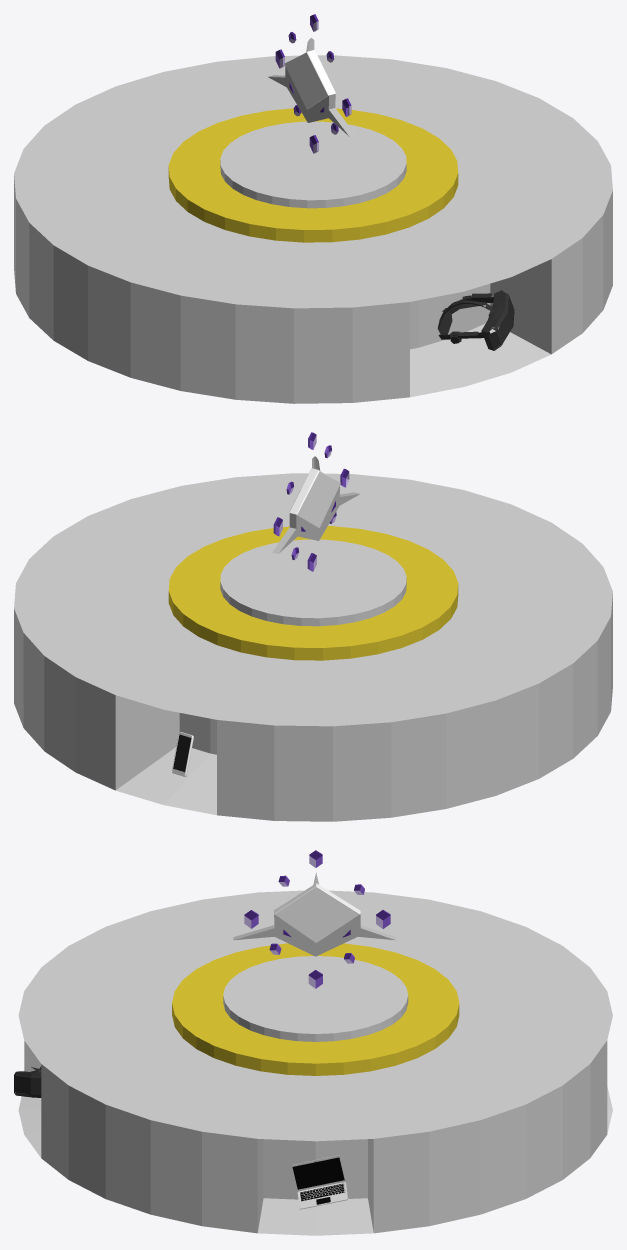
The picture shows the model from 3 angles, top to bottom: view 1: azimuth 30°, elevation 25°; view 2: azimuth 150°, elevation 25°; view 3: azimuth 270°, elevation 25°; orthographic projection.
Visible parts, largest first — view 1: Cylinder002, Cylinder002_1, BezierCurve, Curve058, Curve027; view 2: Cylinder002, Cylinder002_1, Curve058, Curve027, pCube2_phong2_0; view 3: Cylinder002, Cylinder002_1, Curve058, Frame_ComputerFrame_0, Curve027, BezierCurve.
Part boxes in pixels (x1=…): Cylinder002: x1=14, y1=55, x2=612, y2=403; Cylinder002_1: x1=168, y1=108, x2=458, y2=242; BezierCurve: x1=437, y1=290, x2=514, y2=350; Curve058: x1=284, y1=50, x2=335, y2=109; Curve027: x1=268, y1=66, x2=355, y2=136; Cylinder002: x1=14, y1=473, x2=612, y2=821; Cylinder002_1: x1=168, y1=526, x2=458, y2=660; Curve058: x1=289, y1=468, x2=340, y2=527; Curve027: x1=272, y1=485, x2=359, y2=553; pCube2_phong2_0: x1=172, y1=732, x2=193, y2=776; Cylinder002: x1=18, y1=890, x2=612, y2=1235; Cylinder002_1: x1=172, y1=943, x2=459, y2=1075; Curve058: x1=274, y1=883, x2=360, y2=943; Frame_ComputerFrame_0: x1=291, y1=1155, x2=347, y2=1209; Curve027: x1=233, y1=911, x2=395, y2=956; BezierCurve: x1=14, y1=1066, x2=41, y2=1097.
Size of the model in its own units: 2.67 by 1.29 by 2.69.
